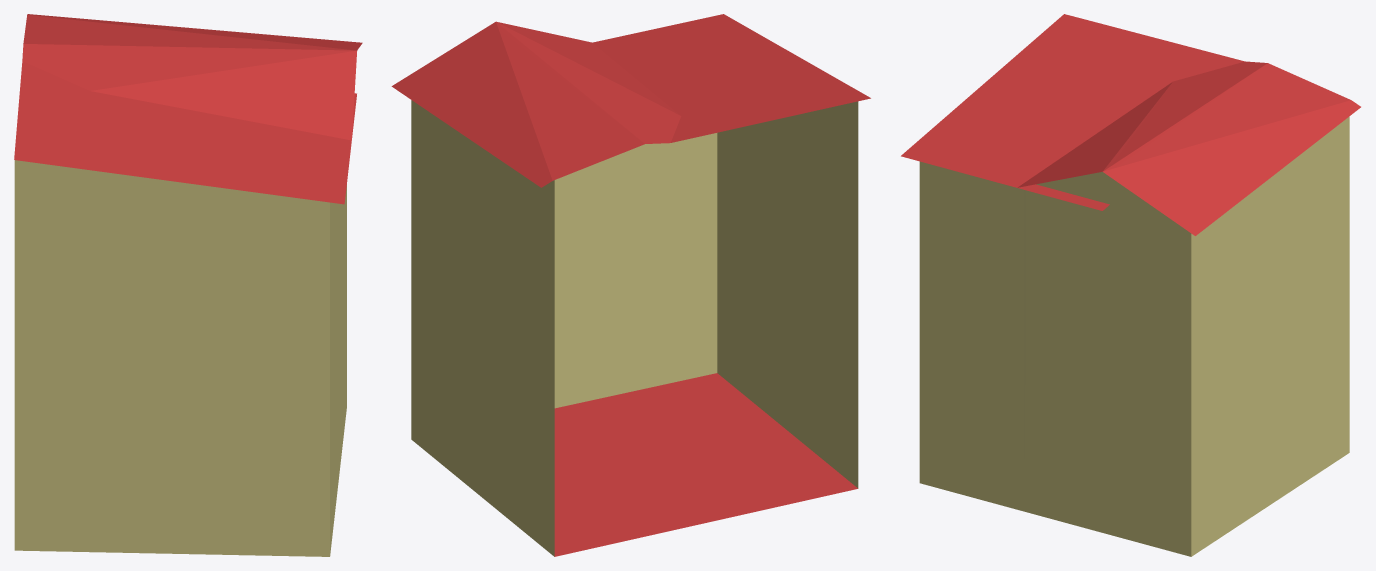
The picture shows the model from 3 angles, left to right: view 1: azimuth 30°, elevation 25°; view 2: azimuth 150°, elevation 25°; view 3: azimuth 270°, elevation 25°; orthographic projection. The views are drawn at different scales.
Size of the model in its own units: 7.93 by 8.23 by 7.25.
